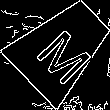M_NE: (28, 14, 96, 82)
